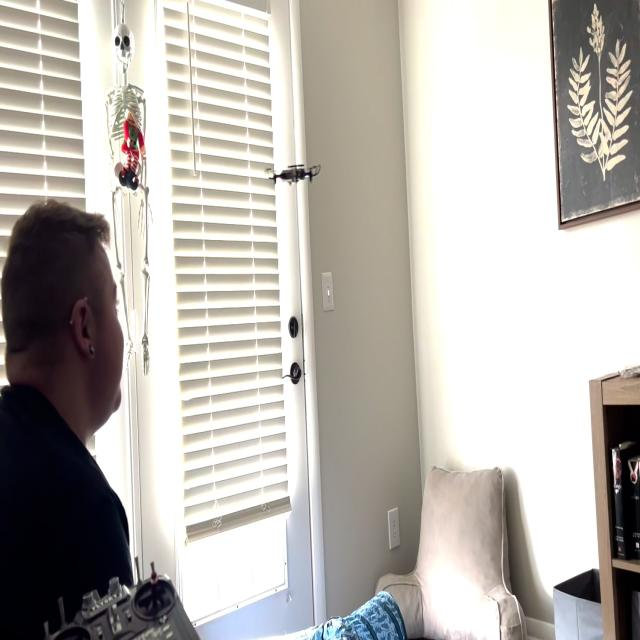drone: (260, 148, 327, 196)
